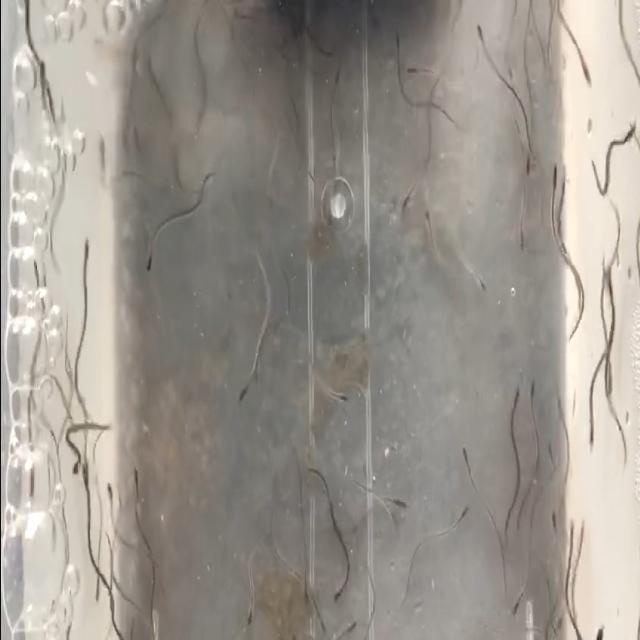active_glass_eel: (236, 374, 257, 429), (32, 52, 52, 108), (383, 502, 401, 558), (618, 98, 638, 148), (140, 247, 163, 290), (393, 180, 418, 213), (511, 214, 528, 261), (452, 436, 476, 469), (470, 261, 490, 299), (468, 22, 488, 58), (572, 50, 592, 86), (419, 194, 437, 232), (403, 56, 423, 90), (546, 499, 563, 538), (386, 23, 406, 54), (507, 584, 521, 628), (456, 498, 474, 532), (550, 383, 566, 419), (597, 258, 613, 294), (336, 382, 349, 426), (585, 418, 599, 454), (74, 238, 92, 266), (102, 479, 120, 506), (128, 462, 144, 492), (78, 458, 94, 487), (548, 156, 562, 189), (242, 604, 256, 636), (64, 450, 80, 478), (396, 490, 409, 523), (311, 602, 326, 630), (335, 565, 345, 605), (524, 370, 536, 401), (512, 382, 522, 414), (546, 441, 558, 465), (524, 151, 536, 175)
